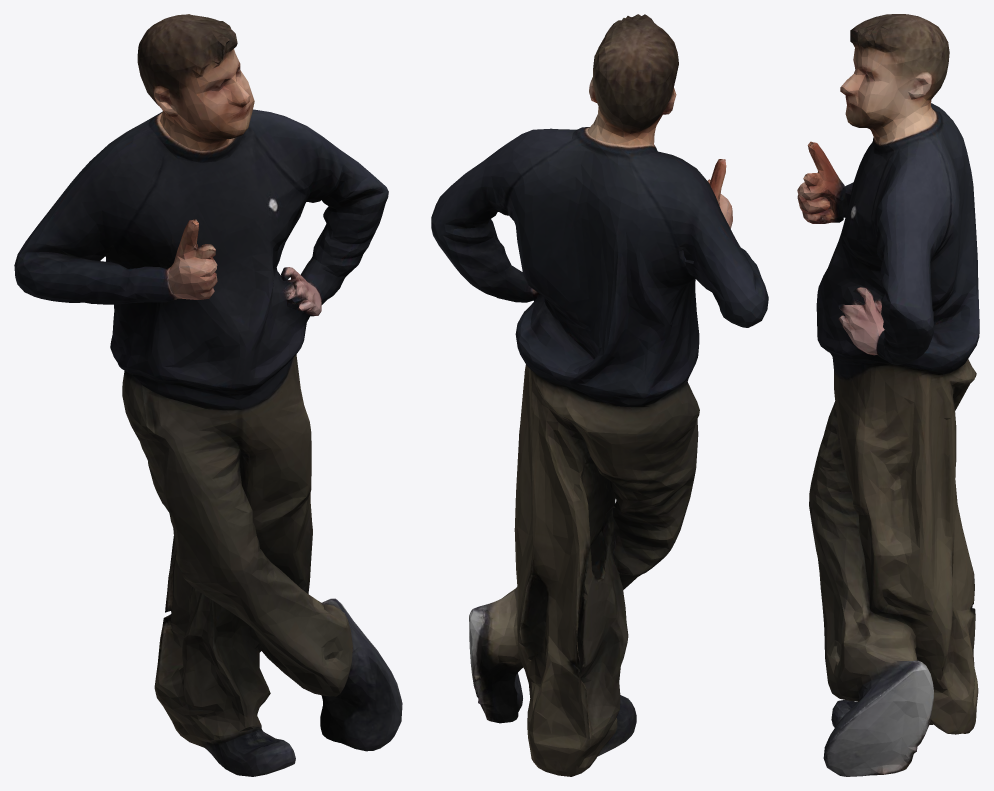
Rendered from obsimo.glb.
3 views of the same model, side by side, from view 1: azimuth 30°, elevation 25°; view 2: azimuth 150°, elevation 25°; view 3: azimuth 270°, elevation 25° (orthographic). The views are drawn at different scales.
Visible parts, largest first — view 1: world; view 2: world; view 3: world.
Part boxes in pixels (left/top/right/bottom): world: left=14, top=14, right=402, bottom=776; world: left=431, top=14, right=768, bottom=776; world: left=797, top=14, right=979, bottom=776.
Size of the model in its own units: 0.4938 by 0.9997 by 0.2398.
1 material, 1 textured.
